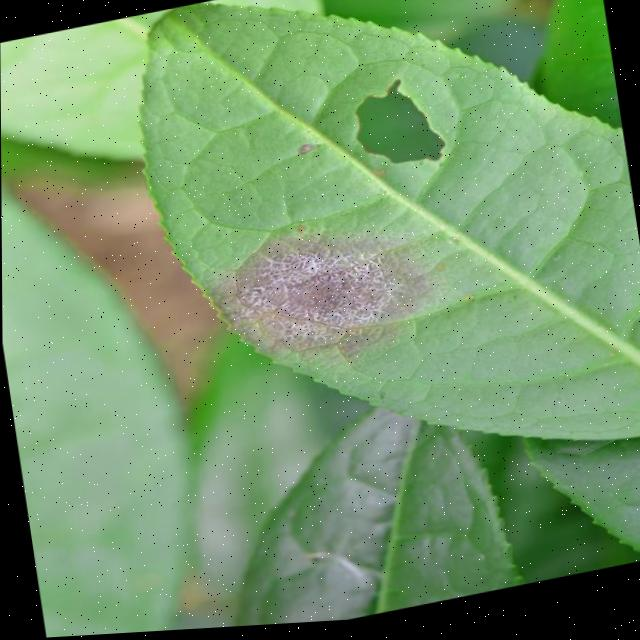Tea exobasidium blight: (218, 213, 422, 385)
